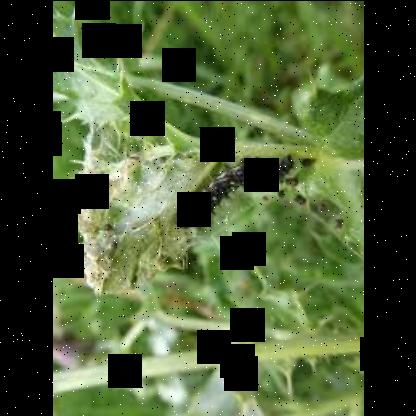oruga: (172, 154, 294, 231)
